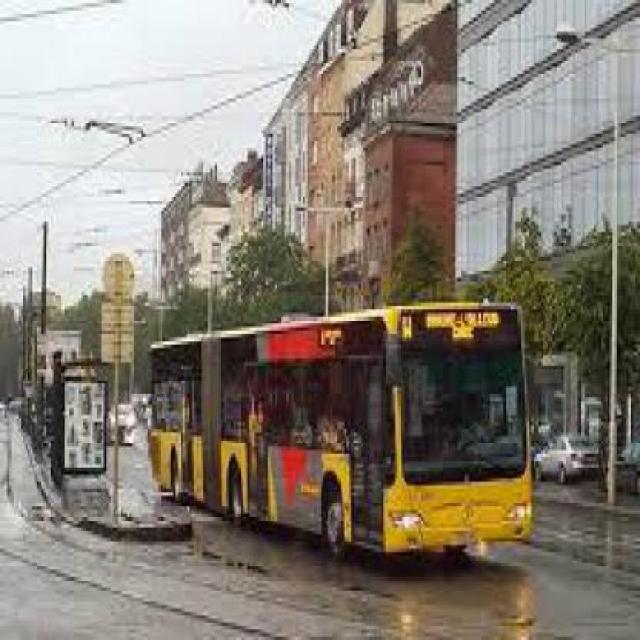bus: (144, 295, 534, 564)
